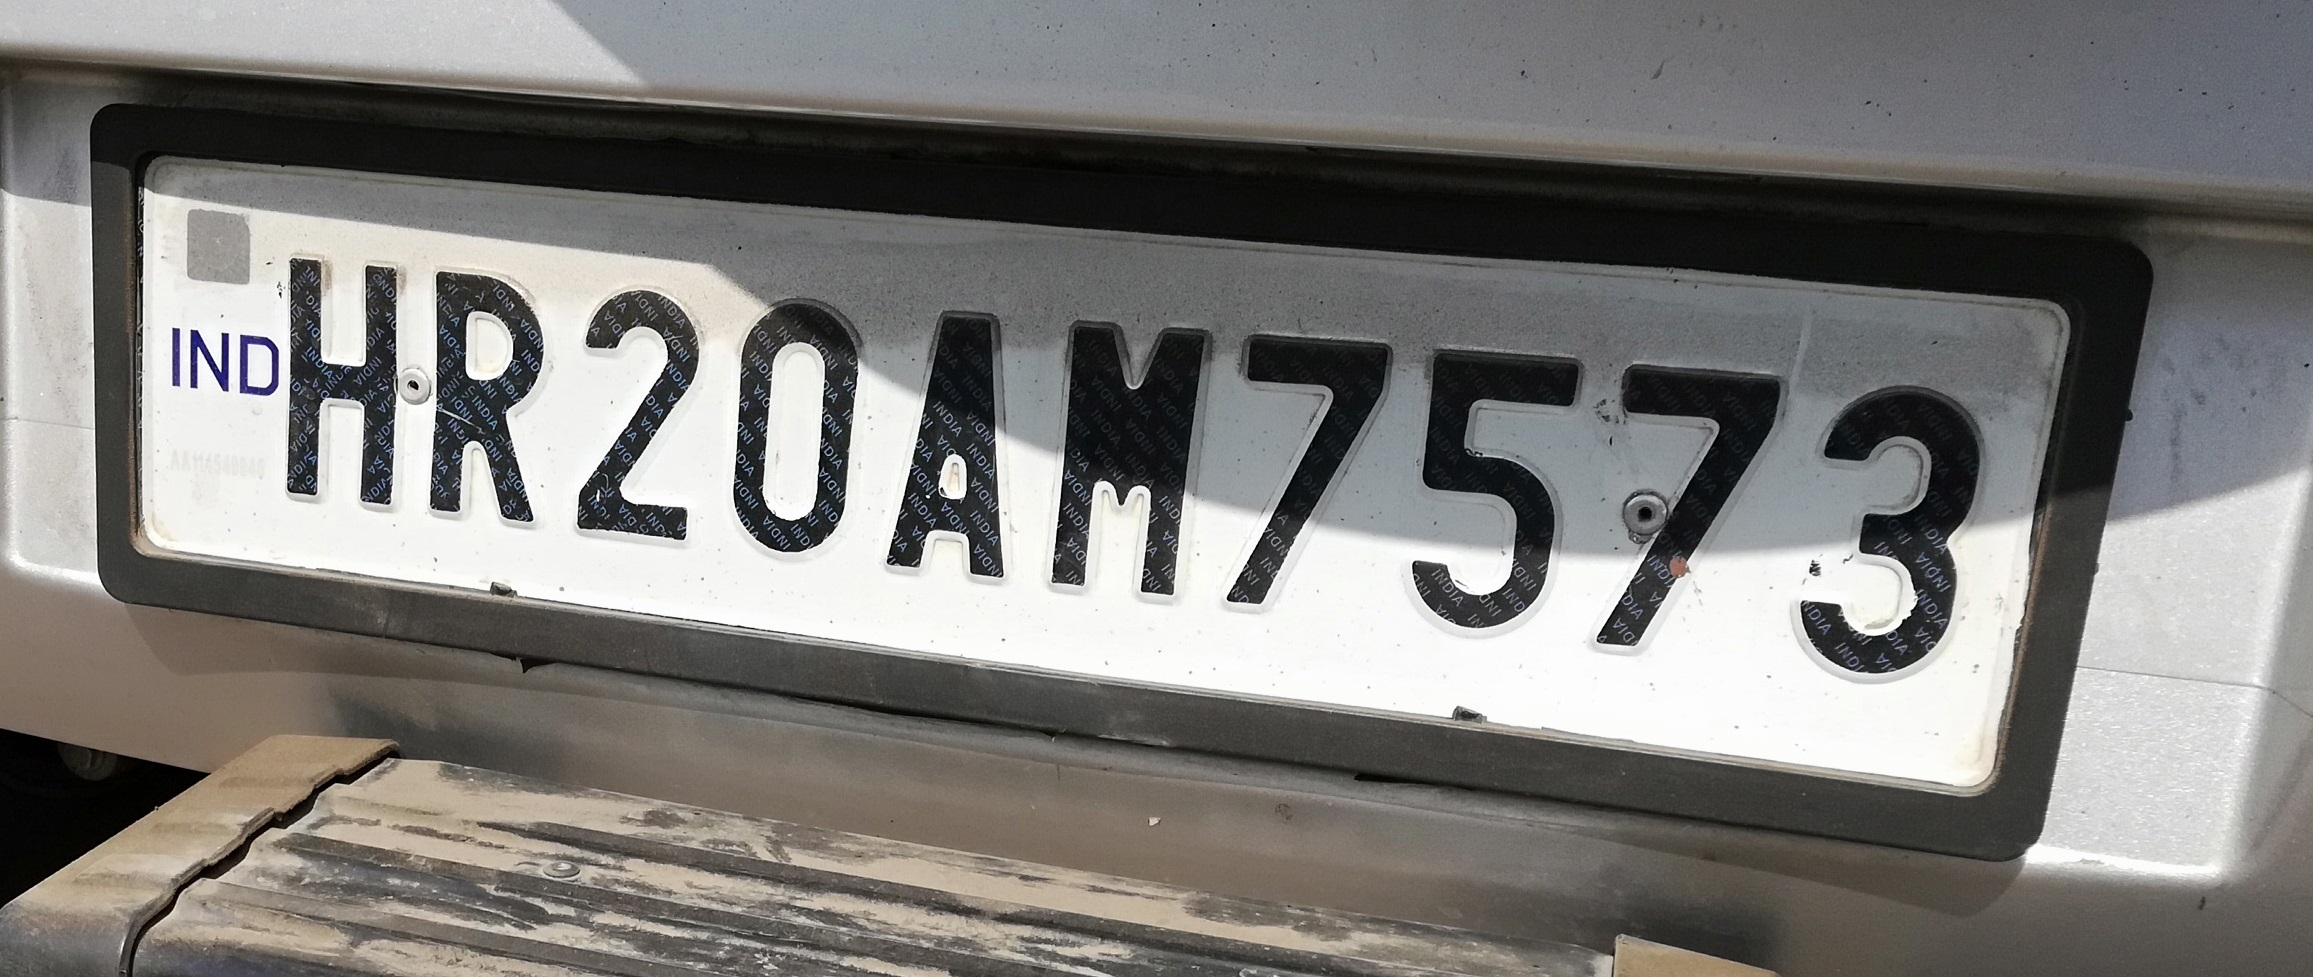numberplate: (93, 98, 2103, 842)
